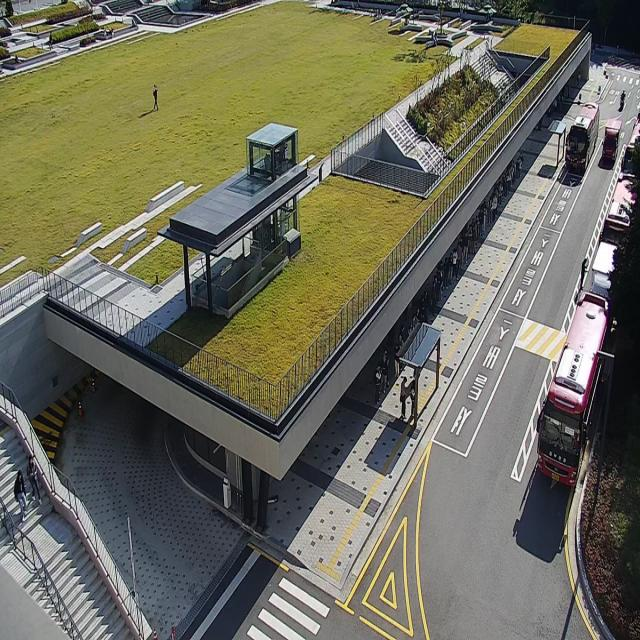queue: (413, 150, 525, 427)
